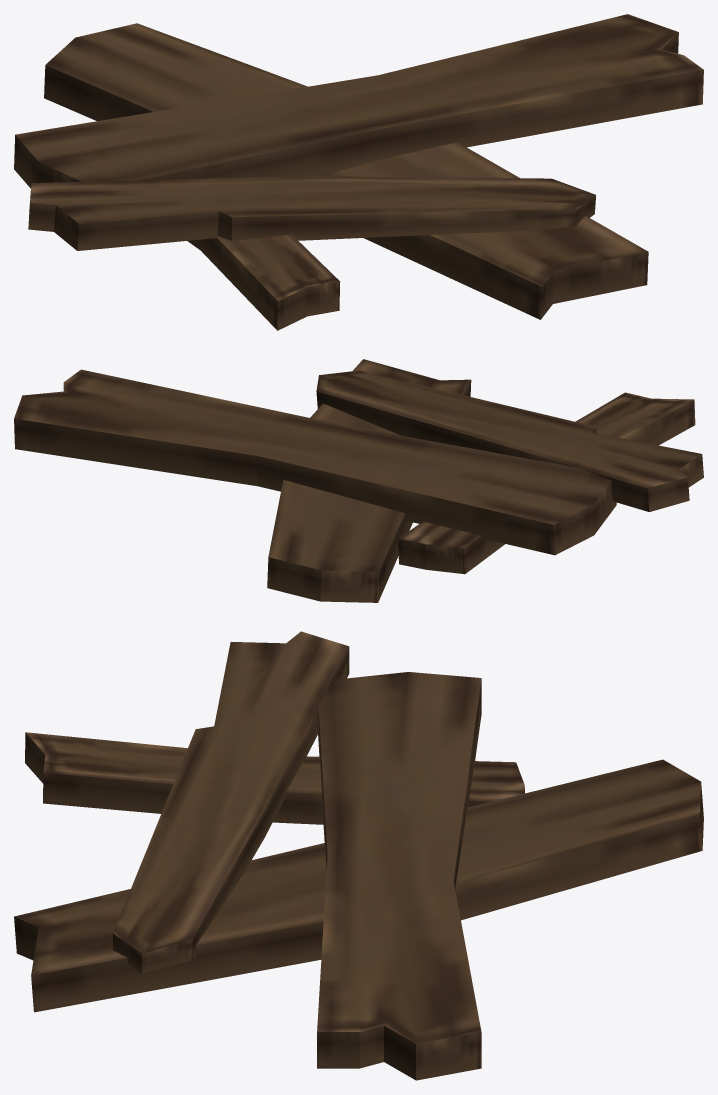
File: 2_YiZhan_ZaWu_MuBan_01.FBX
3 views of the same model, one above another, from view 1: azimuth 30°, elevation 25°; view 2: azimuth 150°, elevation 25°; view 3: azimuth 270°, elevation 25° (orthographic). The views are drawn at different scales.
Parts seen in each view (by area): view 1: 2_YiZhan_ZaWu_MuBan_01; view 2: 2_YiZhan_ZaWu_MuBan_01; view 3: 2_YiZhan_ZaWu_MuBan_01.
Part boxes in pixels (left/top/right/bottom): 2_YiZhan_ZaWu_MuBan_01: left=14, top=14, right=703, bottom=330; 2_YiZhan_ZaWu_MuBan_01: left=14, top=359, right=703, bottom=602; 2_YiZhan_ZaWu_MuBan_01: left=14, top=631, right=703, bottom=1080.
Size of the model in its own units: 210 by 32.38 by 165.
